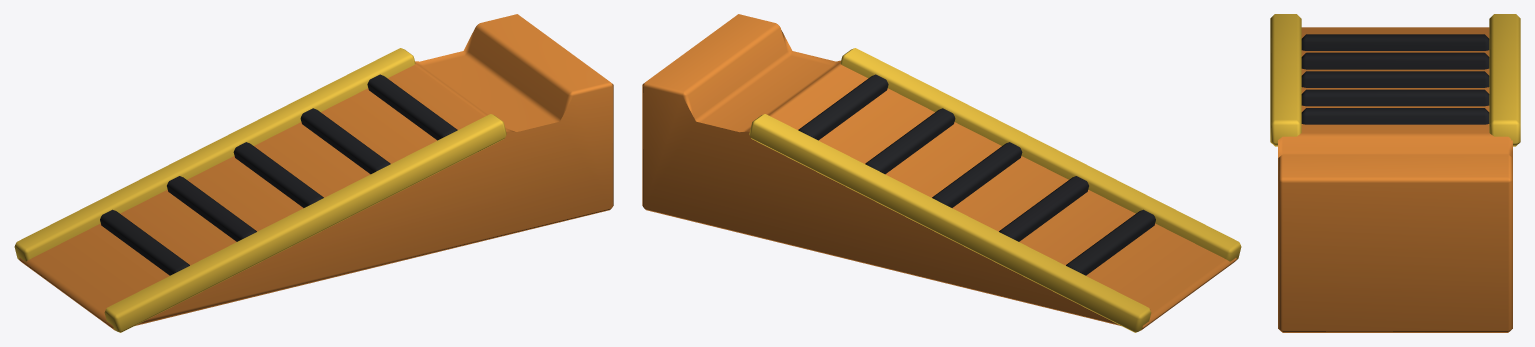
Rendered from SM_CarRamp_01.glb.
3 renders of one model, left to right at view 1: azimuth 30°, elevation 25°; view 2: azimuth 150°, elevation 25°; view 3: azimuth 270°, elevation 25°, orthographic. The views are drawn at different scales.
Visible parts, largest first — view 1: SM_CarRamp_01; view 2: SM_CarRamp_01; view 3: SM_CarRamp_01.
Boxes of the visible parts, x1,y1,x2,y2 form: SM_CarRamp_01: [14, 14, 613, 332]; SM_CarRamp_01: [642, 14, 1241, 332]; SM_CarRamp_01: [1270, 14, 1520, 332].
Size of the model in its own units: 0.9028 by 0.2205 by 0.32.
1 material, 1 textured.
